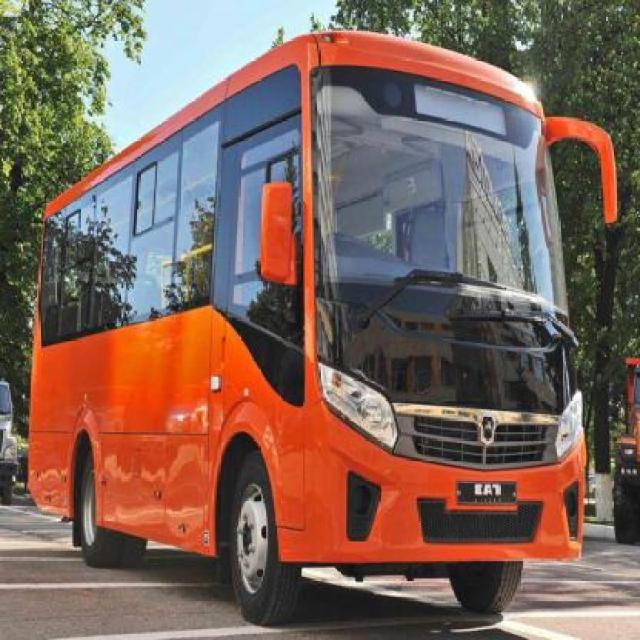bus: (28, 31, 619, 620)
